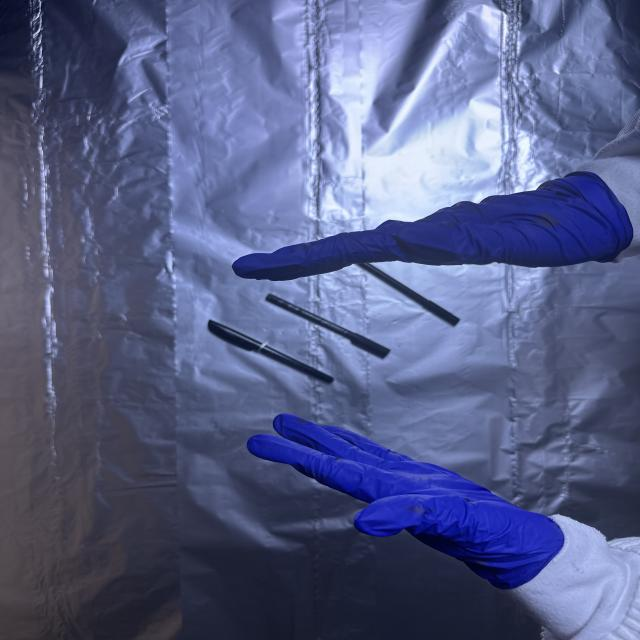gloves_contaminated: (248, 414, 568, 589), (233, 172, 631, 280)
